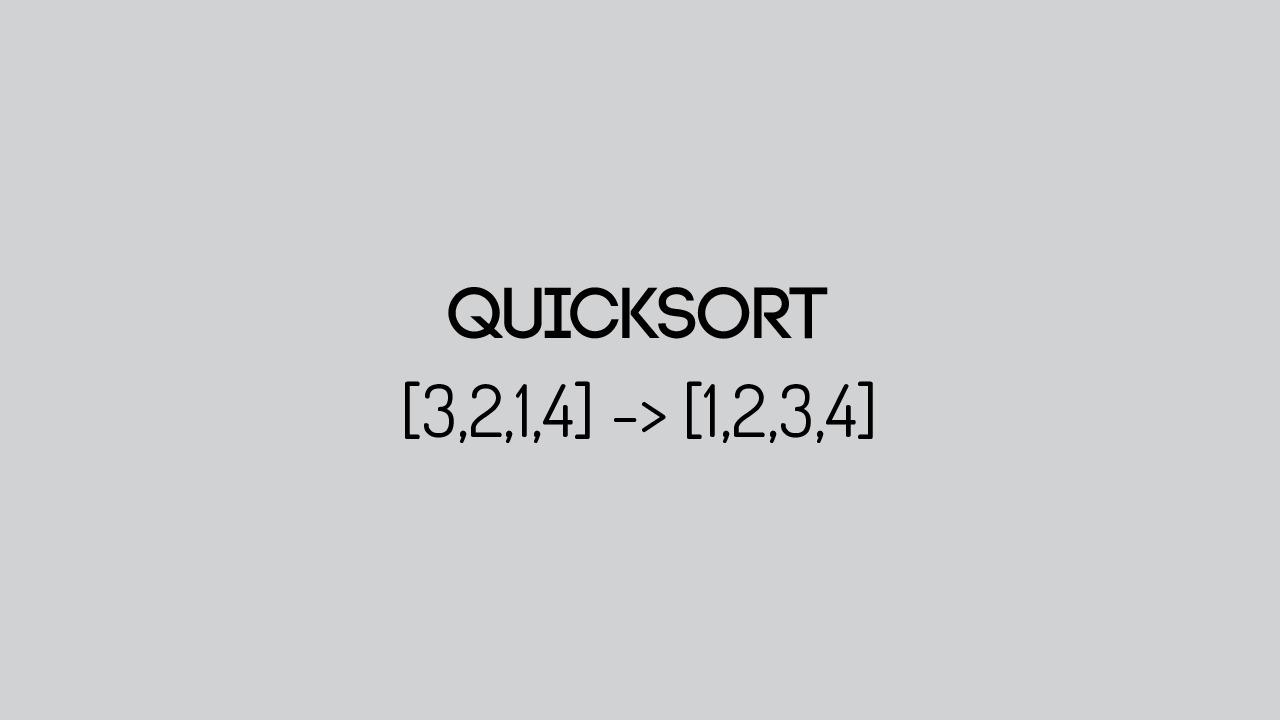title: (415, 237, 877, 376)
